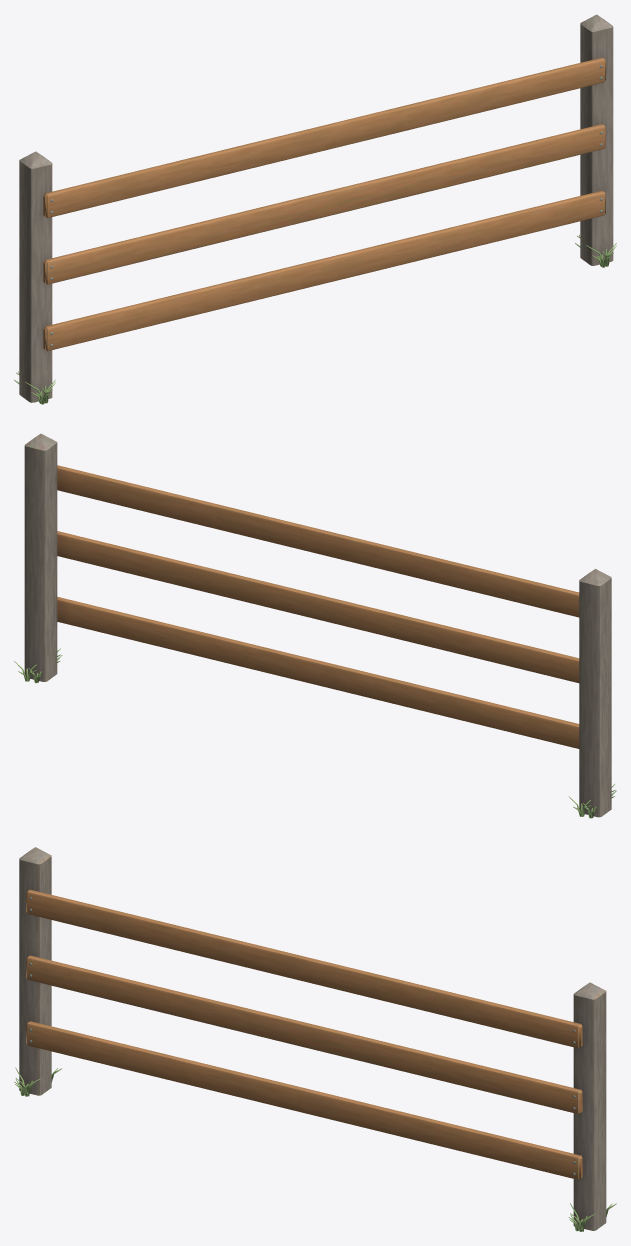
File: wooden-fence.glb
The picture shows the model from 3 angles, top to bottom: view 1: azimuth 30°, elevation 25°; view 2: azimuth 150°, elevation 25°; view 3: azimuth 330°, elevation 25°; orthographic projection.
Parts seen in each view (by area): view 1: wooden-fence_body; view 2: wooden-fence_body; view 3: wooden-fence_body.
Part boxes in pixels (x1=…): wooden-fence_body: x1=14, y1=14, x2=616, y2=404; wooden-fence_body: x1=14, y1=433, x2=616, y2=818; wooden-fence_body: x1=14, y1=847, x2=616, y2=1231.
Size of the model in its own units: 3.18 by 1.25 by 0.2787.
1 material, 1 textured.
